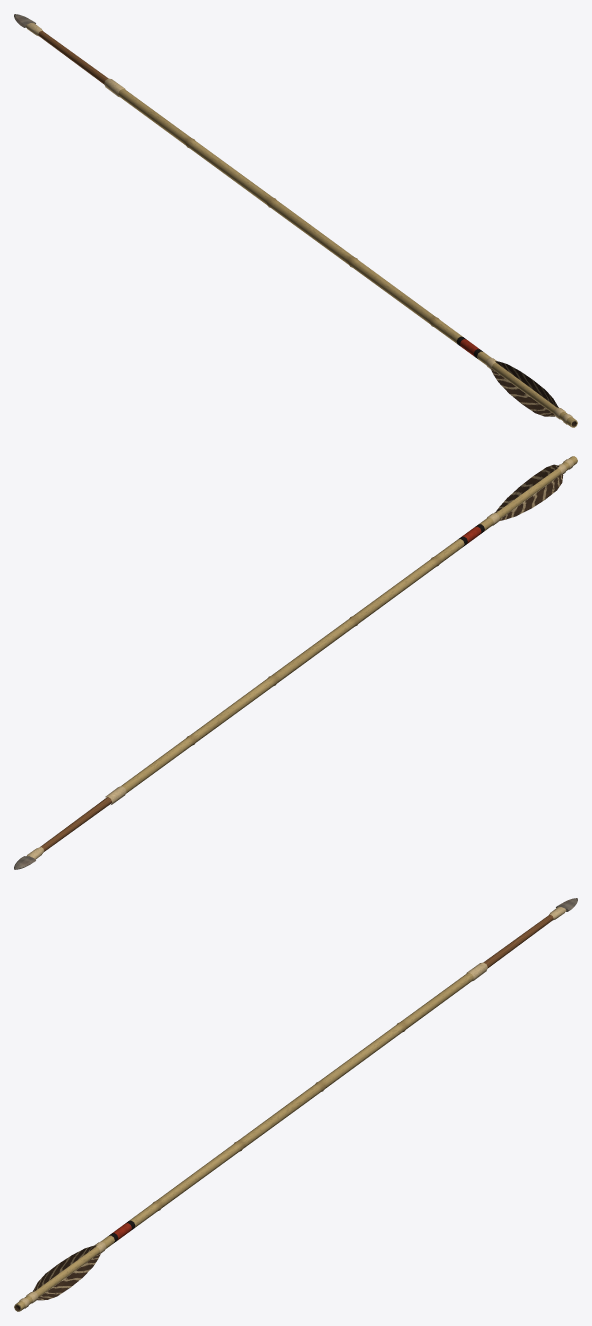
The model's file is atlatl_dart.glb.
3 views of the same model, one above another, from view 1: azimuth 30°, elevation 25°; view 2: azimuth 150°, elevation 25°; view 3: azimuth 330°, elevation 25° (orthographic).
Parts seen in each view (by area): view 1: AtlatlDart; view 2: AtlatlDart; view 3: AtlatlDart.
Boxes of the visible parts, bbox=[...] form: AtlatlDart: bbox=[14, 14, 577, 427]; AtlatlDart: bbox=[14, 456, 577, 869]; AtlatlDart: bbox=[14, 898, 577, 1311].
Bounding box in the file's own units: 0.0397 × 0.0346 × 1.65.
2 materials, 2 textured.
